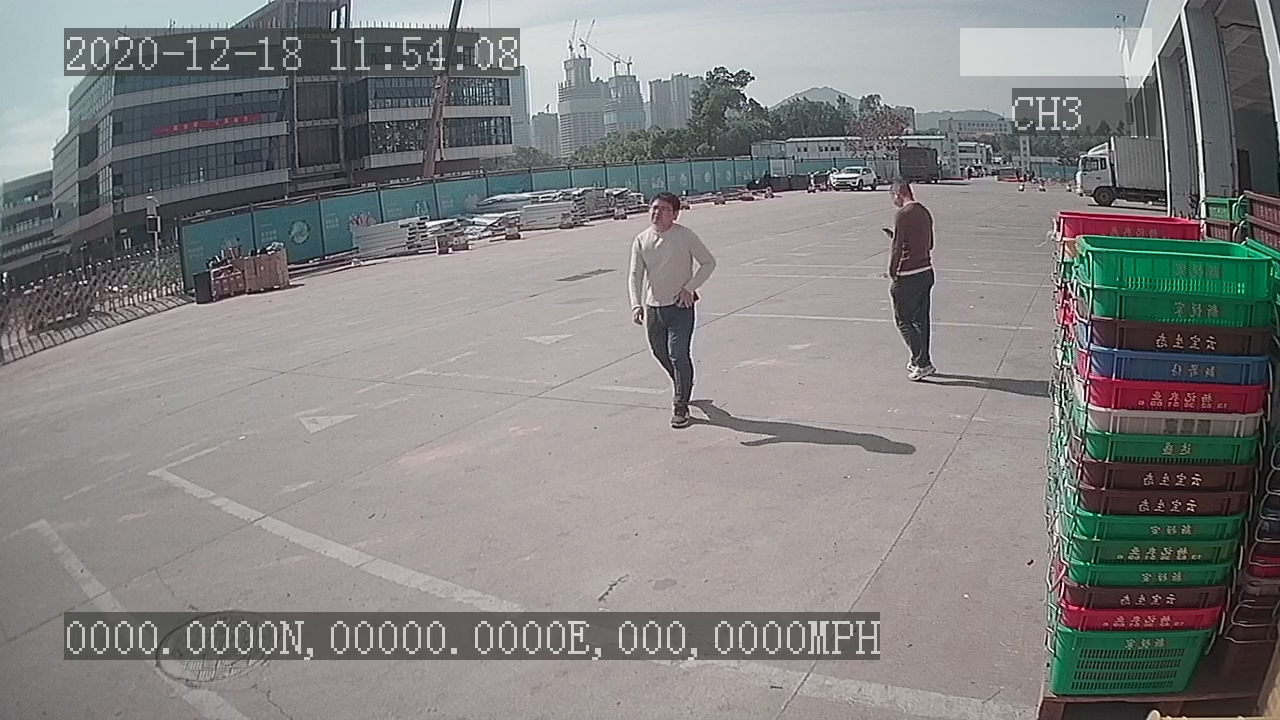person: (617, 188, 727, 435), (872, 174, 945, 385)
